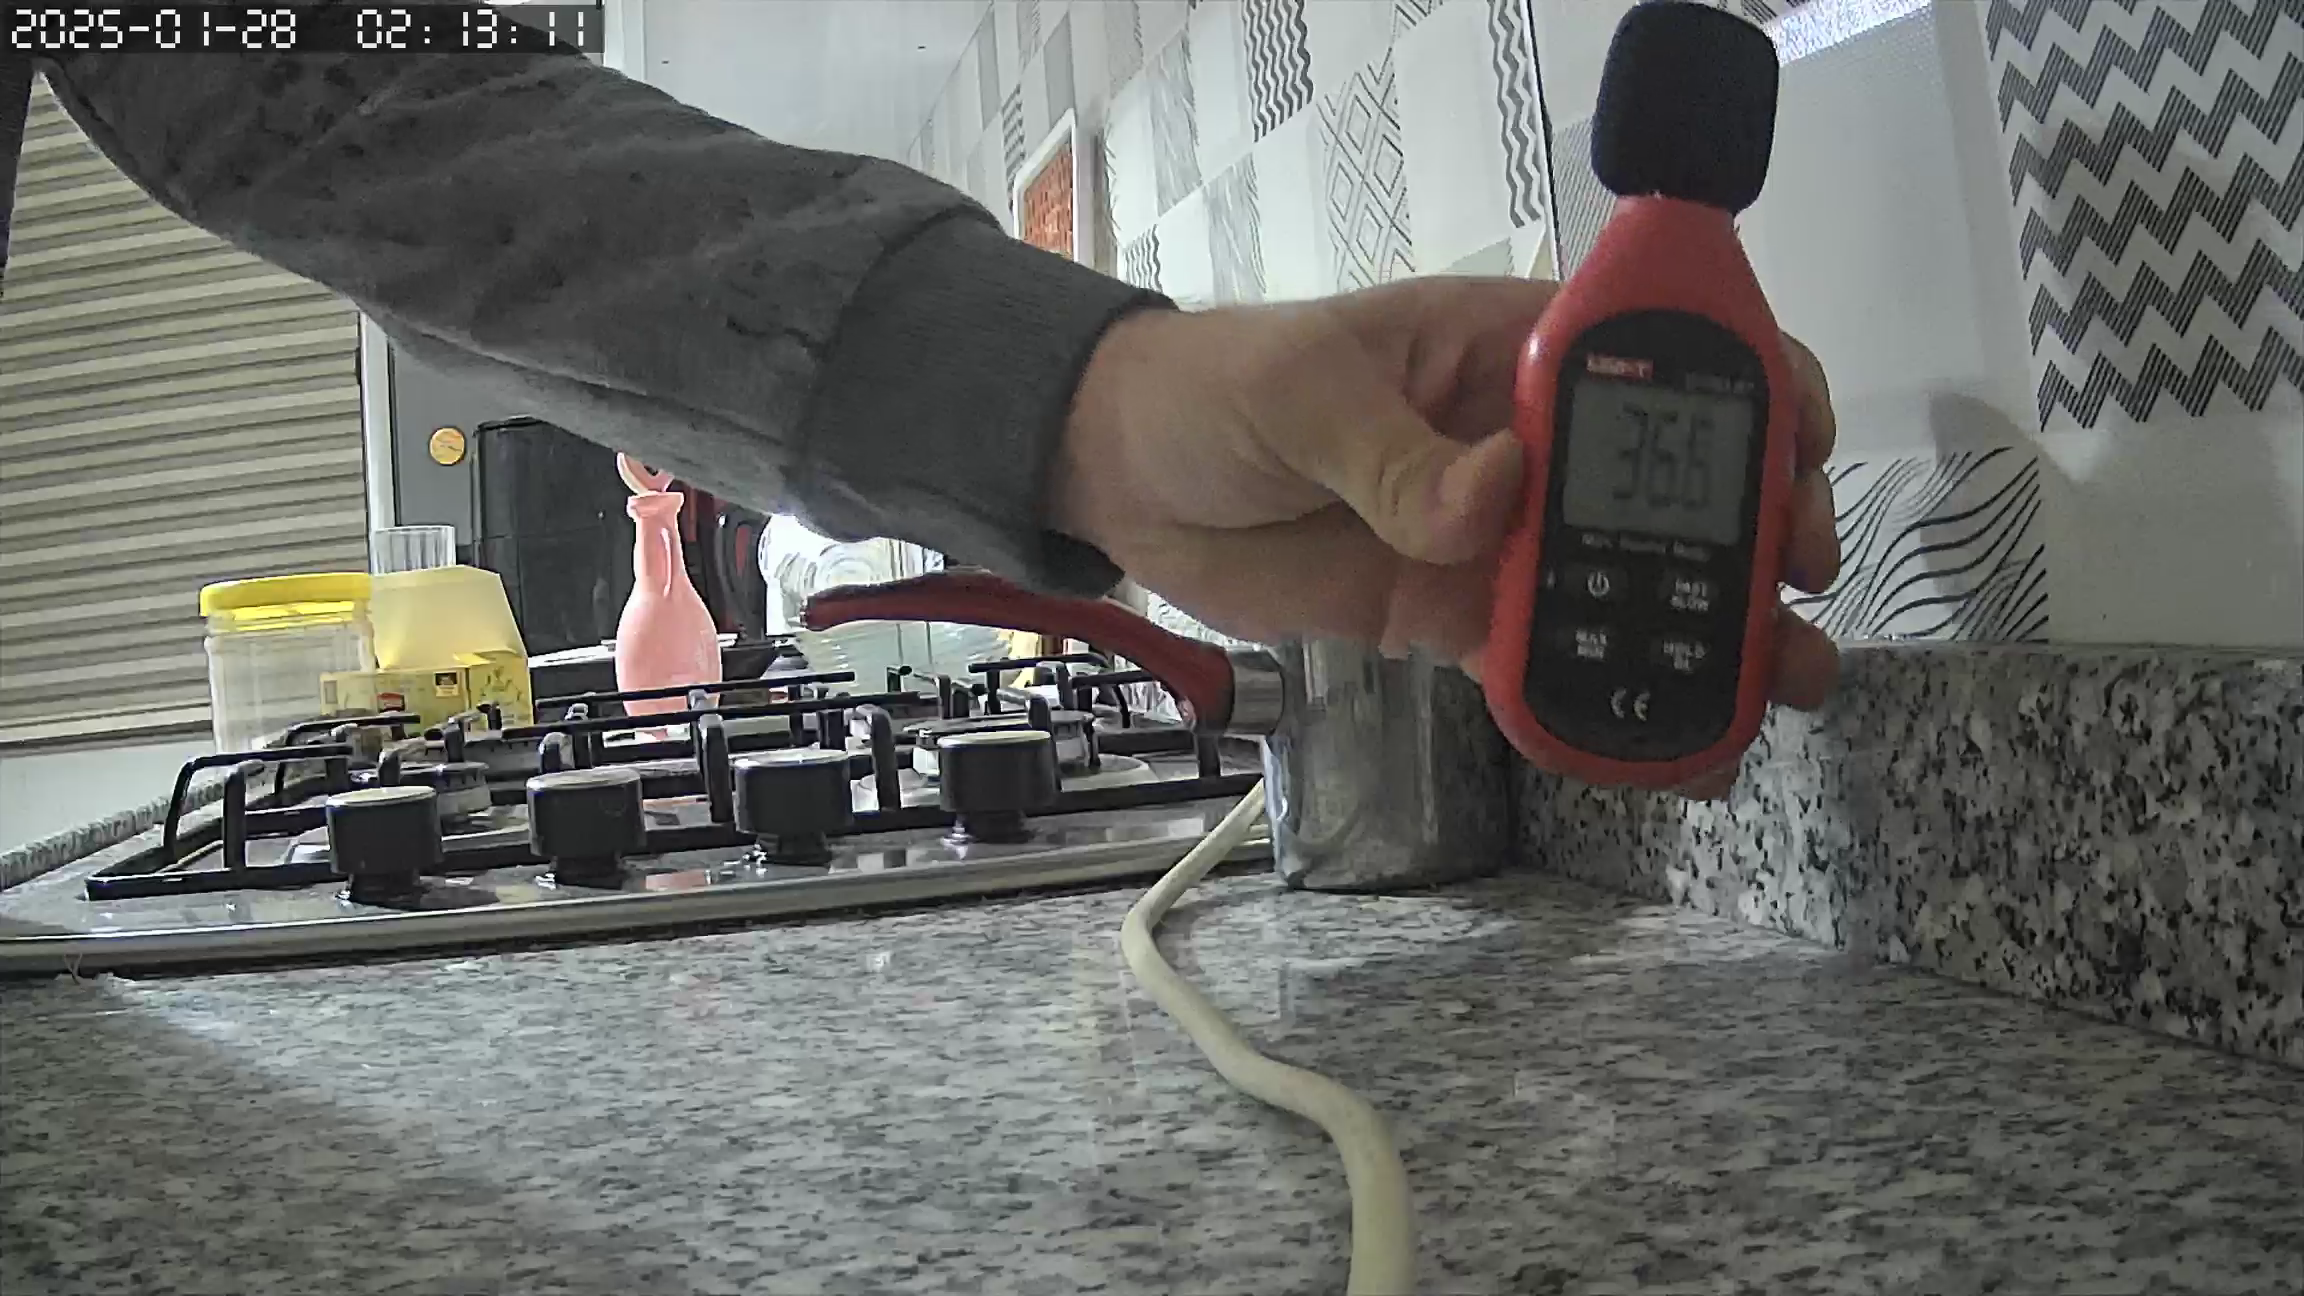screen: (1563, 377, 1750, 546)
